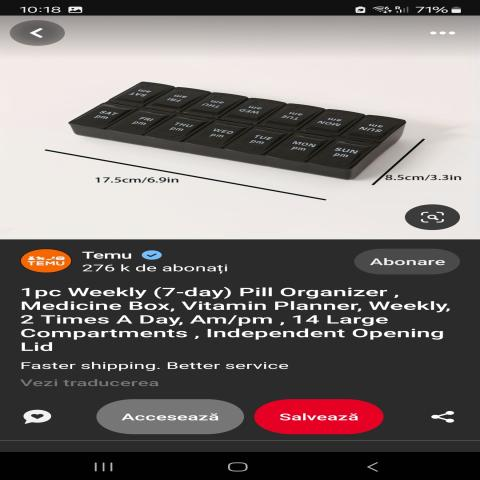Pill-box: (58, 57, 432, 205)
